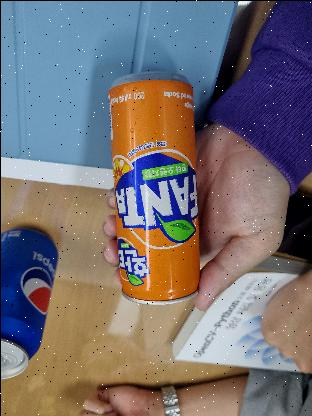Can: (96, 80, 204, 314)
